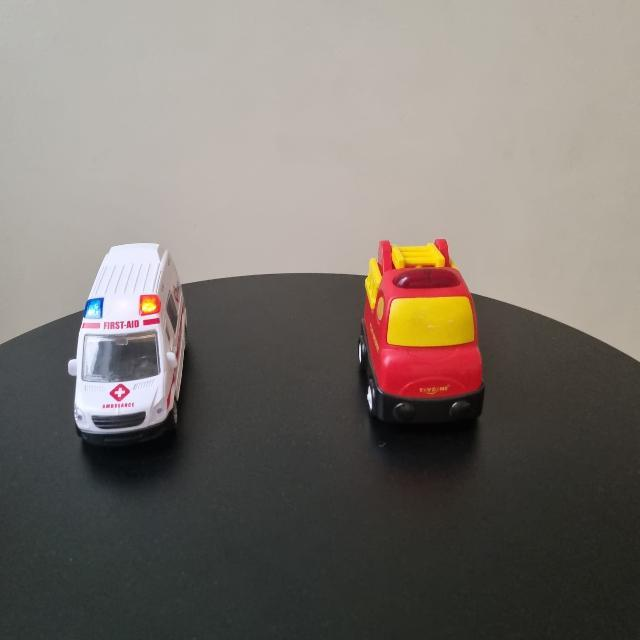emergency-vehicle: (66, 242, 190, 454)
